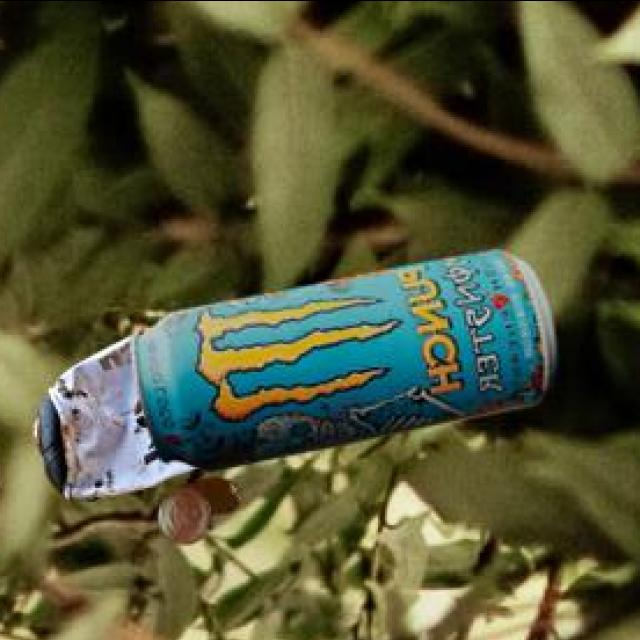logam: (133, 252, 560, 474), (38, 340, 198, 502), (161, 481, 245, 546)
